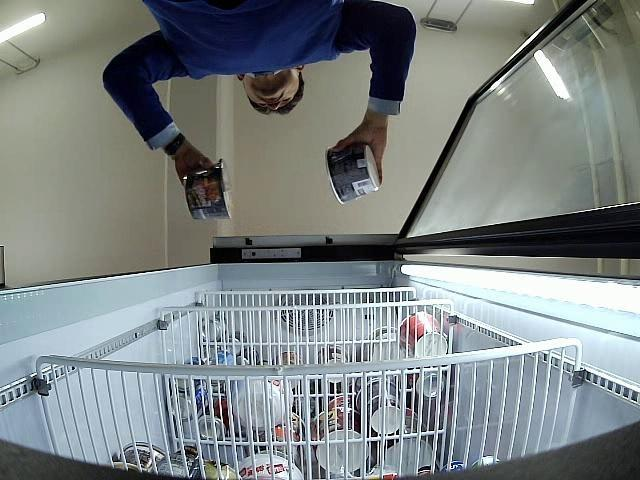07_buldak_L: (326, 145, 379, 204), (185, 158, 232, 220)
